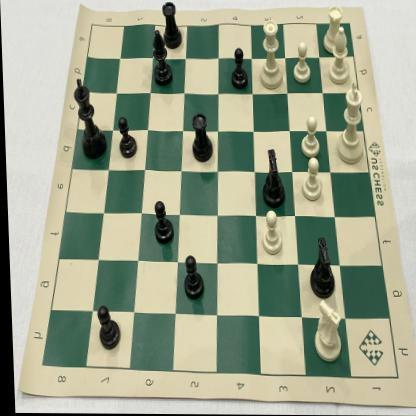black-bishop: (150, 27, 174, 90)
black-king: (70, 76, 107, 162)
black-knight: (304, 233, 336, 302), (256, 145, 286, 210)
black-pawn: (92, 304, 120, 355), (178, 252, 205, 304), (113, 114, 137, 164), (150, 198, 173, 248), (228, 45, 250, 93)
black-rook: (188, 111, 214, 166), (160, 0, 184, 53)
white-bishop: (324, 19, 354, 88)
white-king: (329, 80, 367, 167)
white-knight: (306, 298, 343, 365)
white-pawn: (258, 208, 284, 258), (297, 155, 323, 204), (298, 112, 322, 162), (290, 40, 313, 86)
white-queen: (254, 14, 284, 95)
white-rook: (320, 2, 346, 56)
